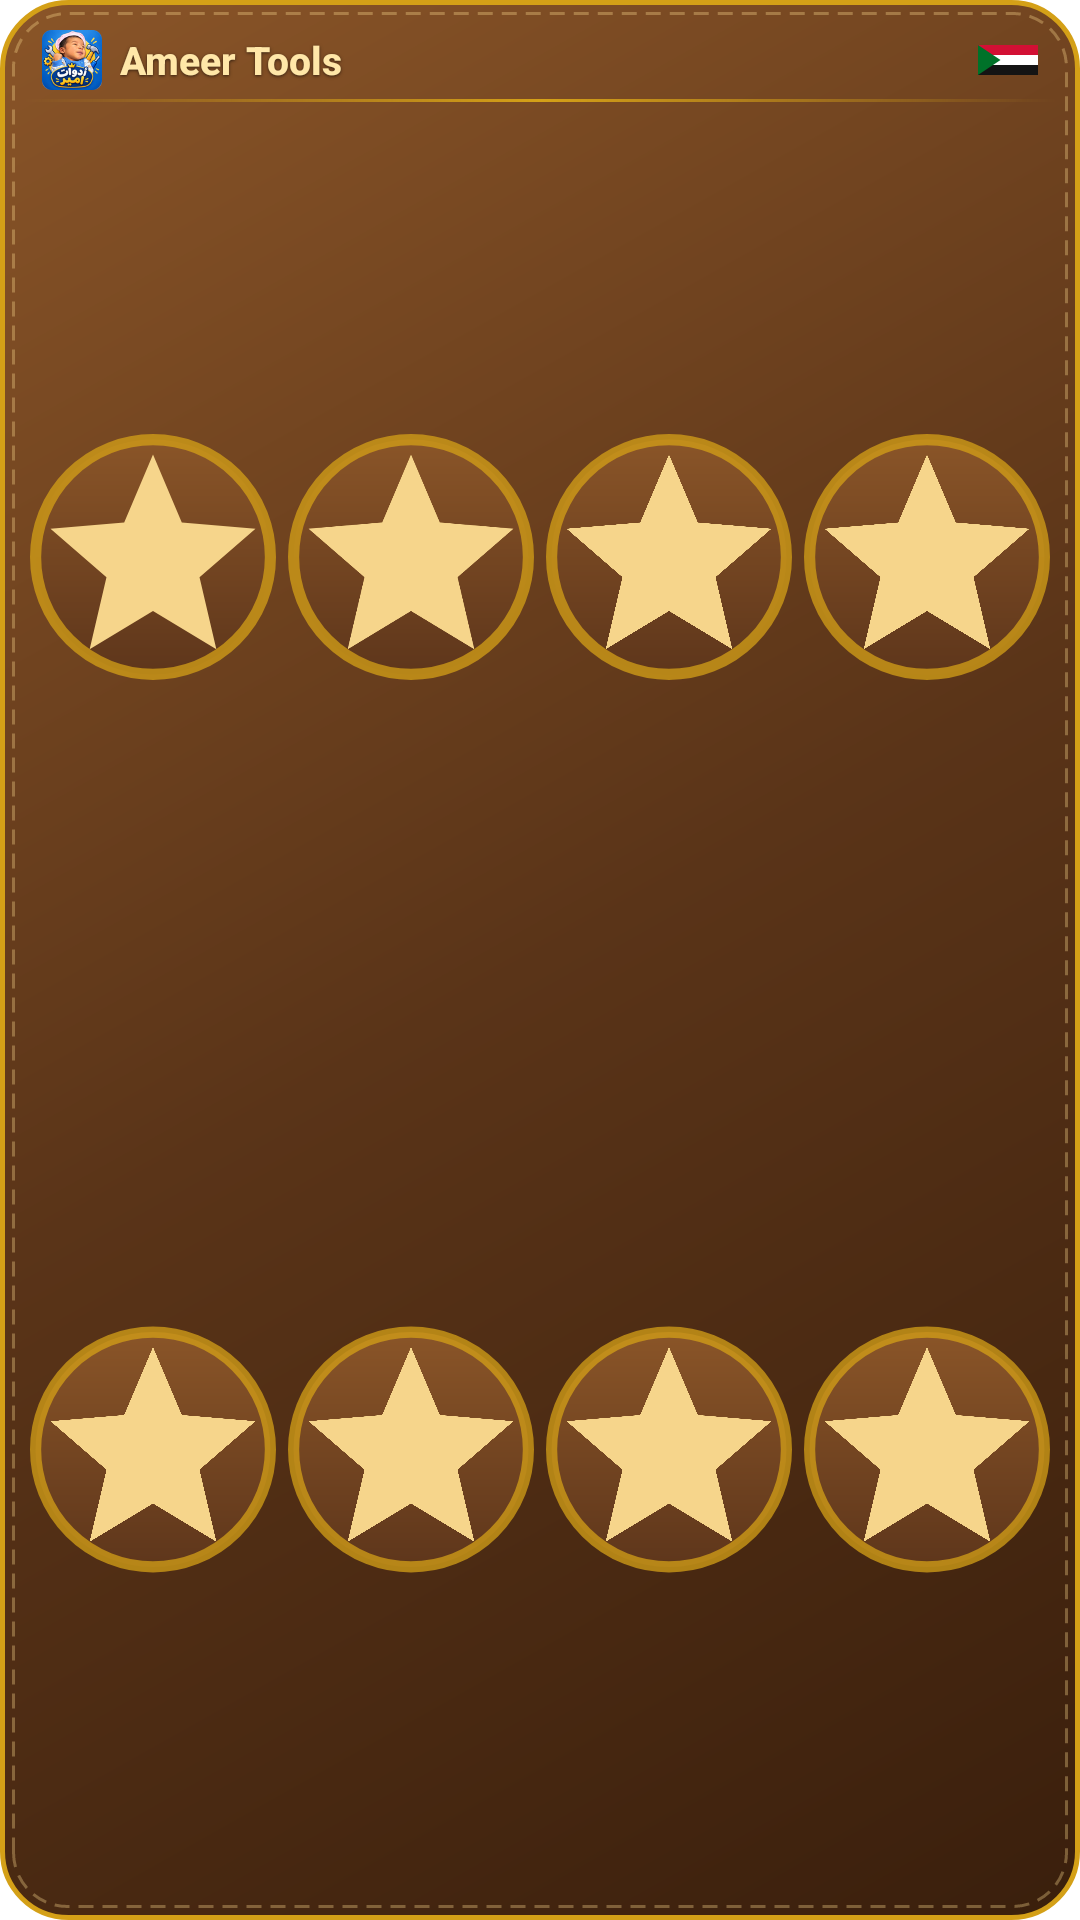

Screen size 1080px×1920px. Icon name, then its center in pixels as (x=x, y=y):
flag: (x=1008, y=60)
